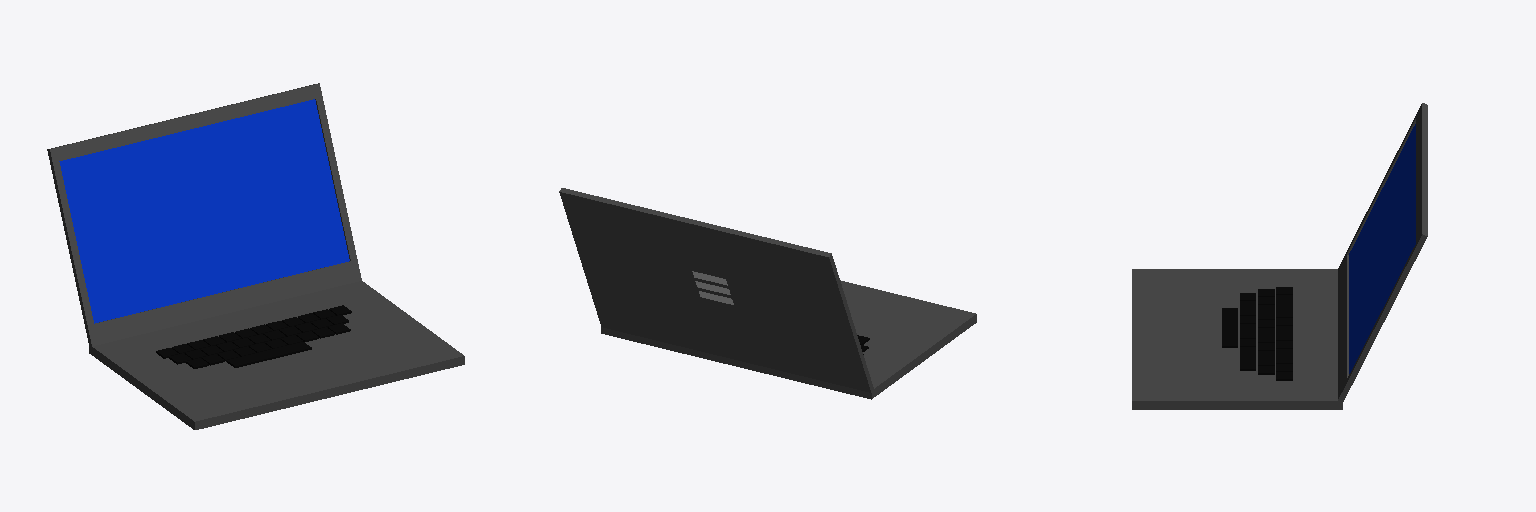
The model's file is lapt.obj.
The picture shows the model from 3 angles: view 1: azimuth 30°, elevation 25°; view 2: azimuth 150°, elevation 25°; view 3: azimuth 270°, elevation 25°; orthographic projection.
Parts seen in each view (by area): view 1: Plane, Plane.001_Plane.002, Cube.003_Cube.004; view 2: Plane, Plane.001_Plane.002, Plane.002_Plane.001; view 3: Plane.001_Plane.002, Plane, Cube.003_Cube.004.
Boxes of the visible parts, x1,y1,x2,y2 form: Plane: [47, 83, 361, 346]; Plane.001_Plane.002: [89, 281, 464, 429]; Cube.003_Cube.004: [156, 305, 351, 368]; Plane: [559, 188, 873, 392]; Plane.001_Plane.002: [601, 280, 976, 399]; Plane.002_Plane.001: [692, 271, 733, 304]; Plane.001_Plane.002: [1132, 269, 1342, 409]; Plane: [1338, 103, 1427, 401]; Cube.003_Cube.004: [1222, 287, 1292, 380].
Bounding box in the file's own units: 3.19 × 1.98 × 3.03.